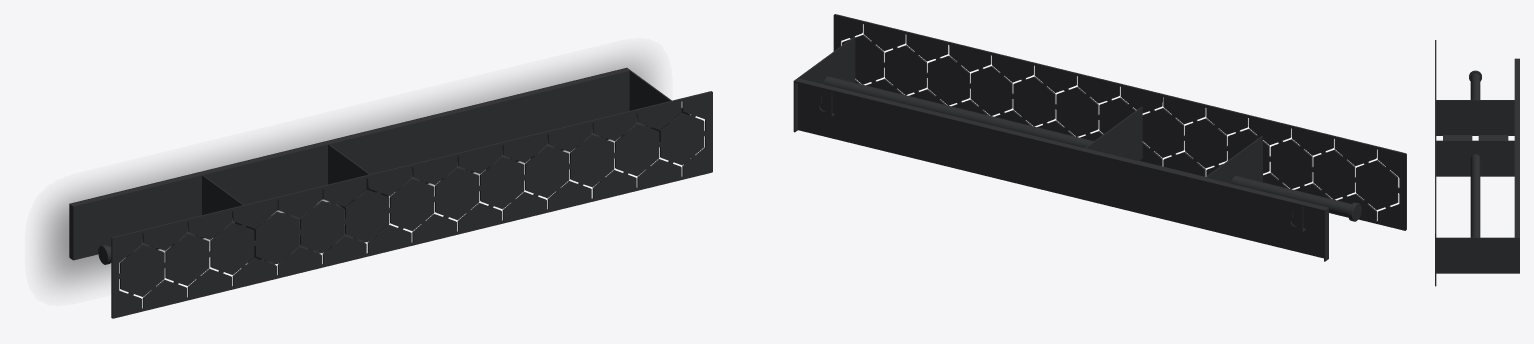
Rendered from bee-trio.a37f432c2e.ar.glb.
3 views of the same model, side by side, from view 1: azimuth 30°, elevation 25°; view 2: azimuth 150°, elevation 25°; view 3: azimuth 270°, elevation 25° (orthographic). The views are drawn at different scales.
Visible parts, largest first — view 1: NAUO1, object 2; view 2: NAUO1; view 3: NAUO1.
Part boxes in pixels (bbox=[...]): NAUO1: bbox=[69, 67, 712, 318]; object 2: bbox=[41, 57, 655, 286]; NAUO1: bbox=[793, 14, 1406, 261]; NAUO1: bbox=[1435, 40, 1519, 286].
Size of the model in its own units: 0.78 by 0.17 by 0.13.
Materials: 2 (1 with a texture image).
